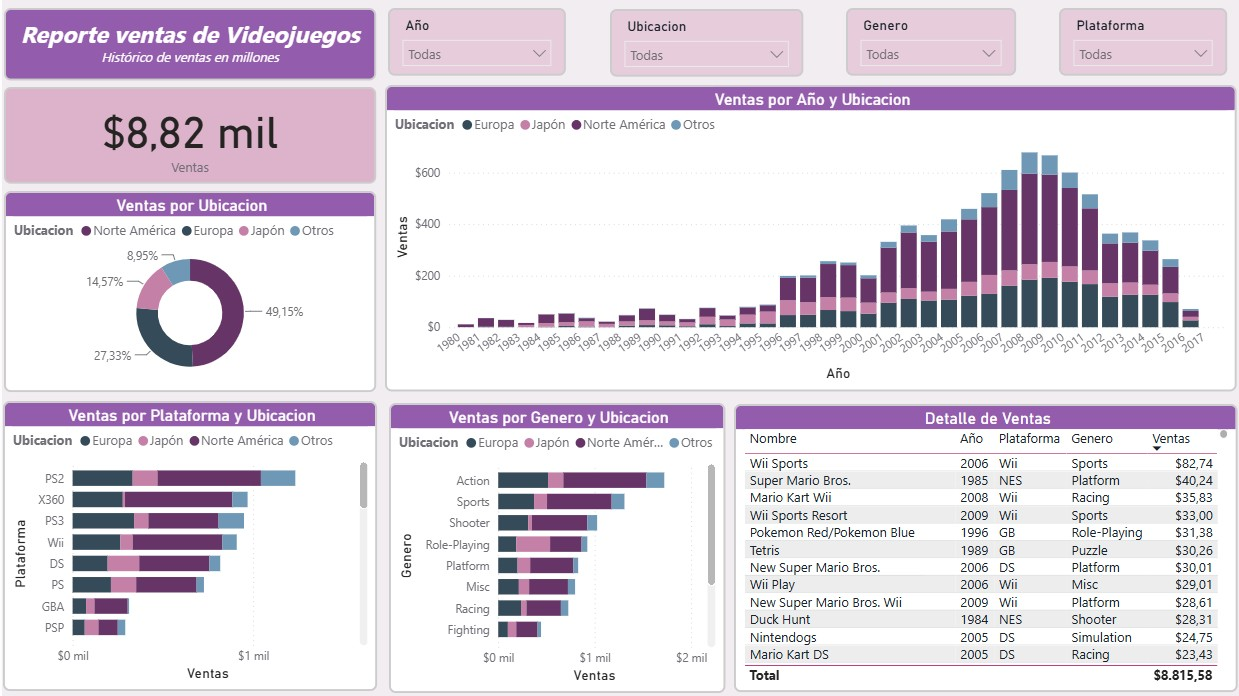

The page's visual inventory and layout, read from the dashboard file:
{"tool":"powerbi","page":{"name":"Página 1","canvas":[1280,720],"ordinal":0},"visuals":[{"type":"tableEx","title":"Detalle de Ventas","fields":{"Values":["Ventas.Nombre","Ventas.Año","Ventas.Plataforma","Ventas.Genero","Sum(Ventas.Ventas (en millones))"]},"box":[757.5,417.5,521.2,297.5],"z":1000},{"type":"columnChart","fields":{"Category":["Ventas.Año"],"Y":["Sum(Ventas.Ventas)"],"Series":["Ventas.Ubicacion"]},"box":[400,88.4,880,316.2],"z":2000},{"type":"donutChart","fields":{"Y":["Sum(Ventas.Ventas)"],"Category":["Ventas.Ubicacion"]},"box":[2.5,197.5,385,207.5],"z":3000},{"type":"barChart","fields":{"Category":["Ventas.Plataforma"],"Y":["Sum(Ventas.Ventas)"],"Series":["Ventas.Ubicacion"]},"box":[0.5,414.6,387.1,300],"z":4000},{"type":"barChart","fields":{"Y":["Sum(Ventas.Ventas)"],"Series":["Ventas.Ubicacion"],"Category":["Ventas.Genero"]},"box":[400,417.1,347.5,300],"z":5000},{"type":"card","fields":{"Values":["Sum(Ventas.Ventas)"]},"box":[2.5,90,385,100],"z":6000},{"type":"slicer","fields":{"Values":["Ventas.Año"]},"box":[399.5,8.8,184.4,70.2],"z":7000},{"type":"slicer","fields":{"Values":["Ventas.Ubicacion"]},"box":[628.5,8.9,200,70],"z":8000},{"type":"slicer","fields":{"Values":["Ventas.Genero"]},"box":[873,8.8,175.6,70.2],"z":9000},{"type":"slicer","fields":{"Values":["Ventas.Plataforma"]},"box":[1093.2,8.8,174.1,70.2],"z":10000},{"type":"textbox","box":[2.5,8.8,385,75],"z":11000}]}

Visuals, with their boxes in screenshot pixels (x1, y1, x2, y2), scaled from the page's 1280x720 canvas onto the 1239x696 screenshot:
"Detalle de Ventas" tableEx: x1=733, y1=404, x2=1238, y2=691
columnChart - Ventas.Año x Sum(Ventas.Ventas): x1=387, y1=85, x2=1238, y2=391
donutChart - Sum(Ventas.Ventas) x Ventas.Ubicacion: x1=2, y1=191, x2=375, y2=392
barChart - Ventas.Plataforma x Sum(Ventas.Ventas): x1=0, y1=401, x2=375, y2=691
barChart - Sum(Ventas.Ventas) x Ventas.Ubicacion: x1=387, y1=403, x2=724, y2=693
card - Sum(Ventas.Ventas): x1=2, y1=87, x2=375, y2=184
slicer - Ventas.Año: x1=387, y1=9, x2=565, y2=76
slicer - Ventas.Ubicacion: x1=608, y1=9, x2=802, y2=76
slicer - Ventas.Genero: x1=845, y1=9, x2=1015, y2=76
slicer - Ventas.Plataforma: x1=1058, y1=9, x2=1227, y2=76
textbox: x1=2, y1=9, x2=375, y2=81
